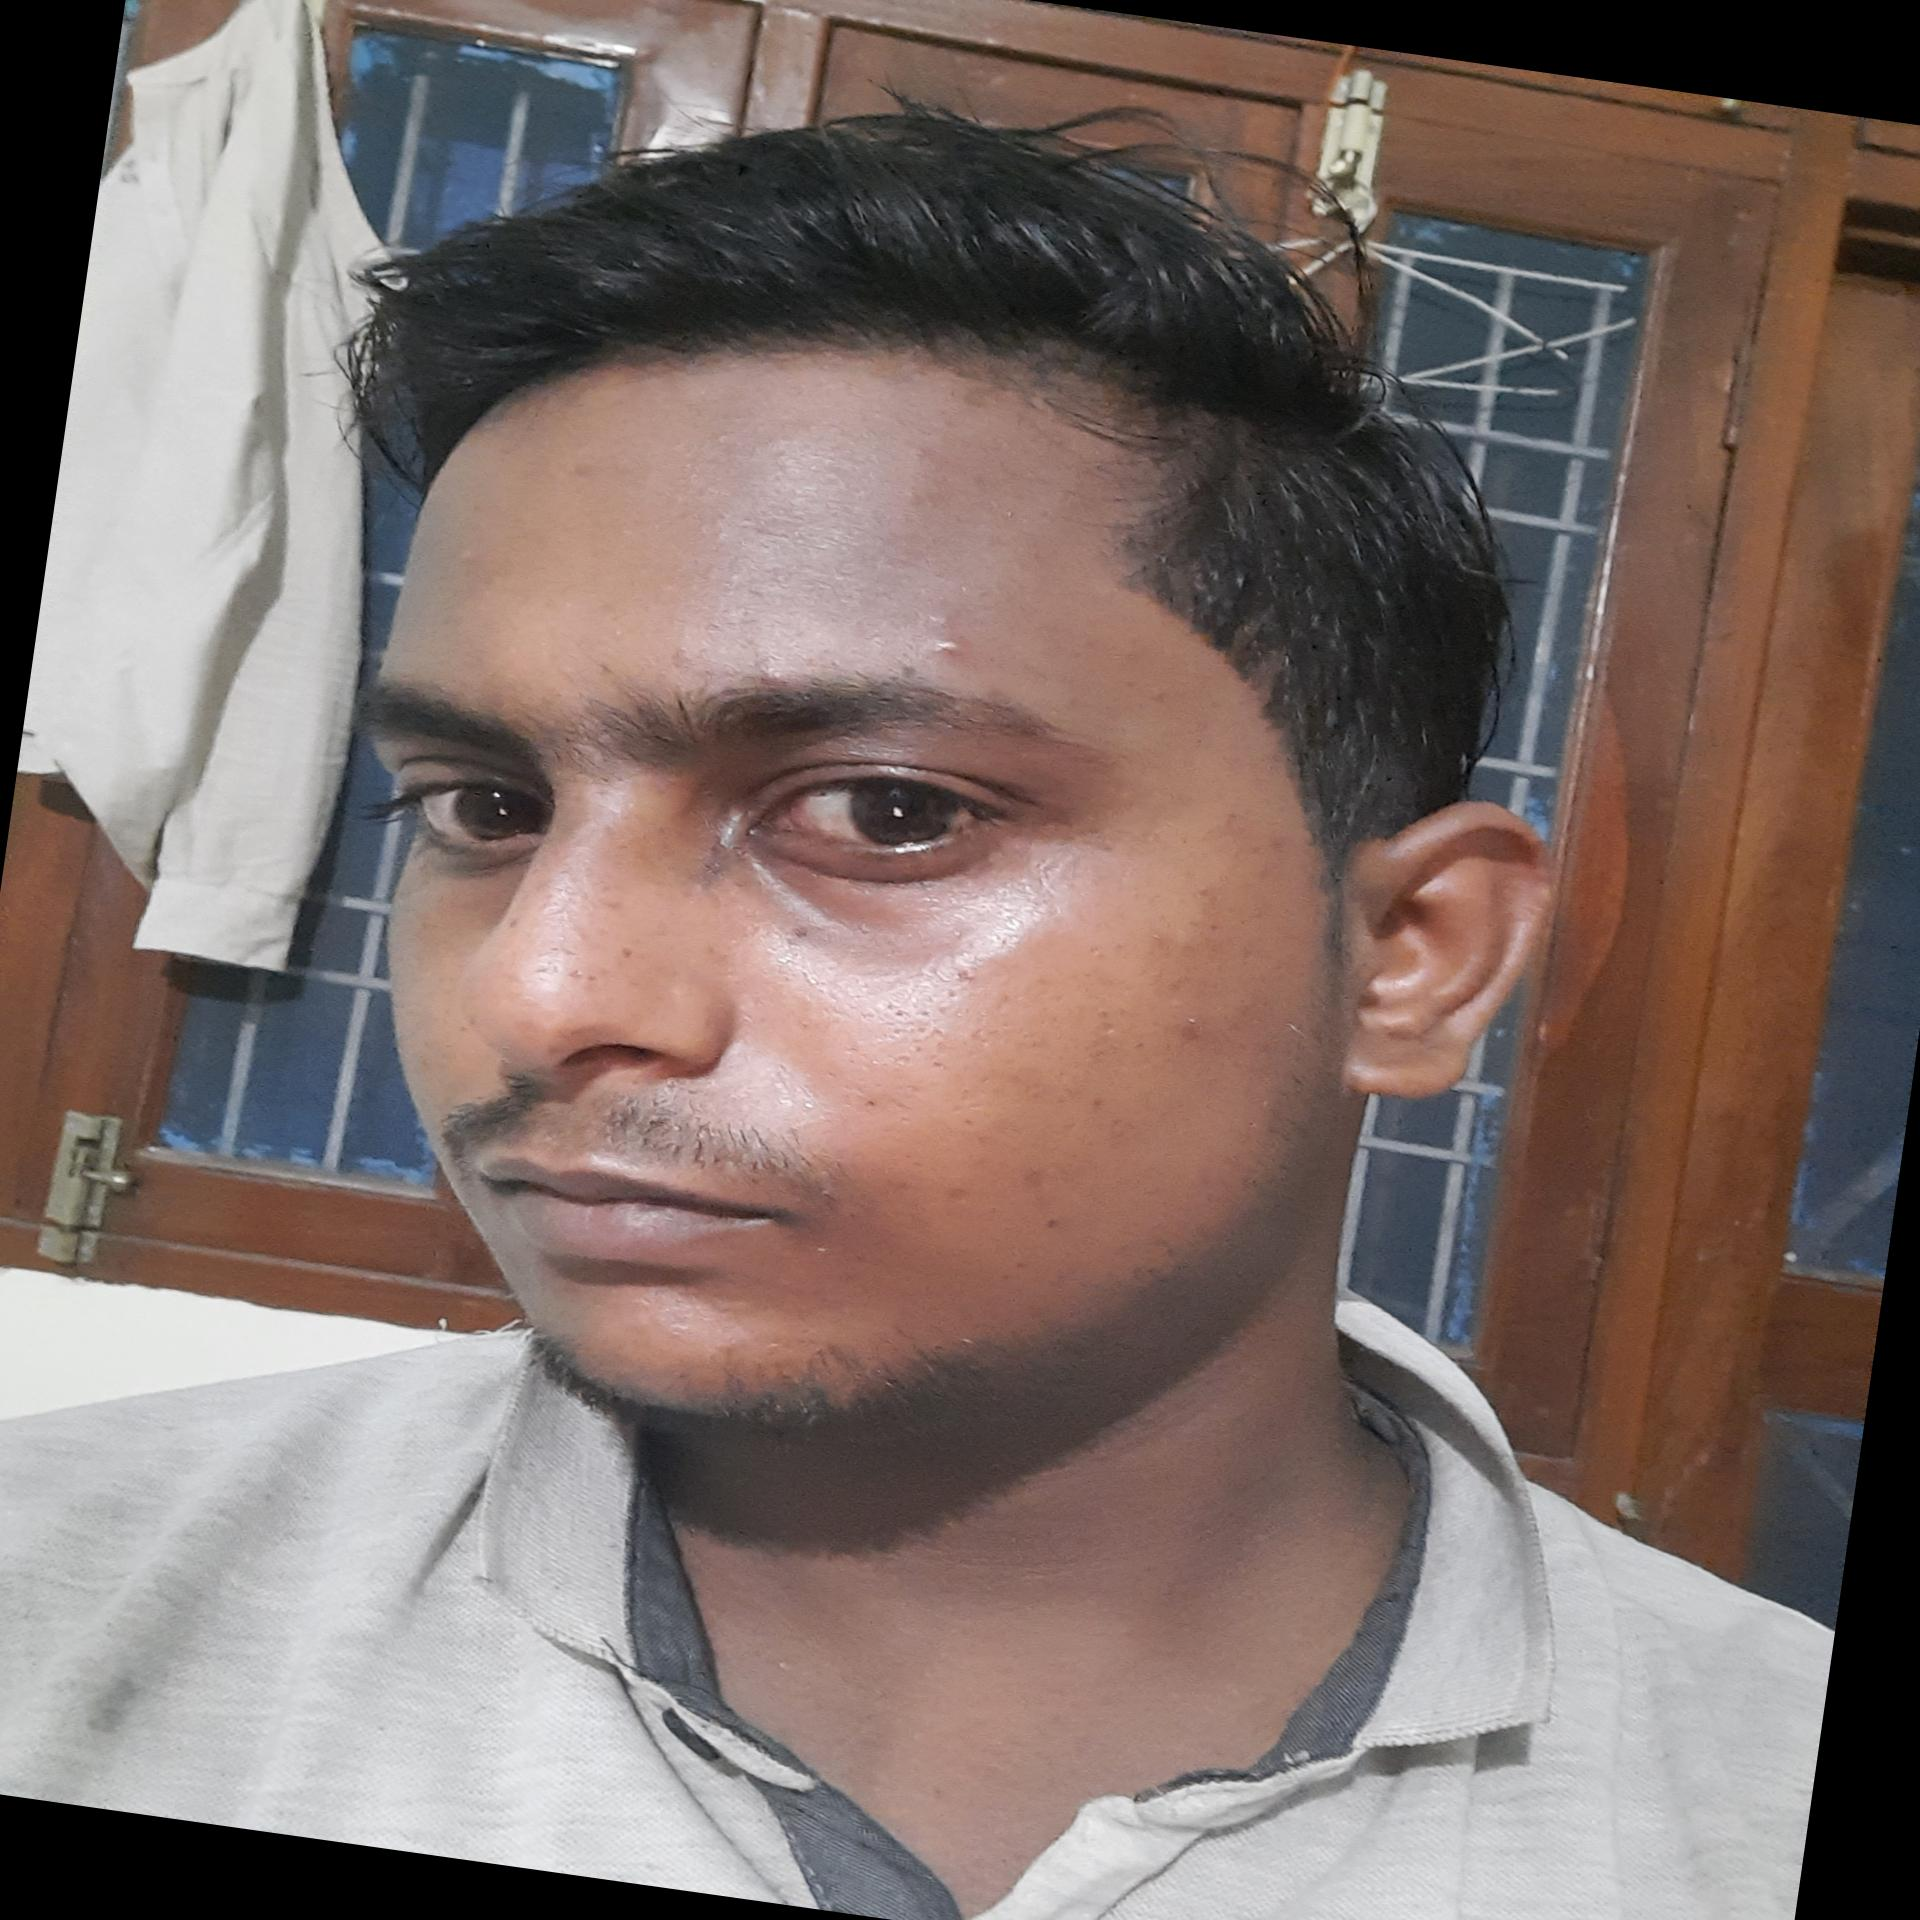Acne: (992, 1143, 1067, 1199), (913, 614, 979, 668), (893, 433, 937, 466), (1097, 1108, 1138, 1143), (893, 480, 939, 510), (438, 545, 484, 575), (656, 640, 702, 665), (754, 663, 788, 695), (564, 454, 600, 484), (600, 619, 636, 644), (1169, 1011, 1204, 1034)
Englarged Pores: (819, 969, 972, 1101), (520, 934, 628, 1009), (1060, 1006, 1132, 1071)
